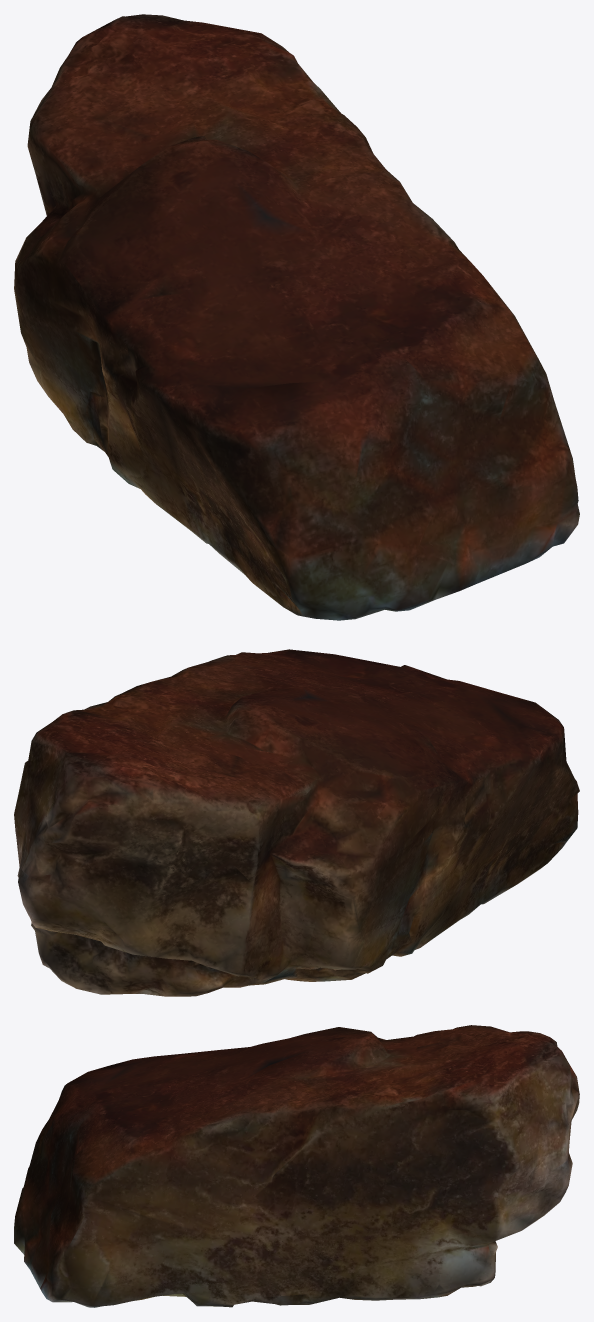
The model's file is rock_07.glb.
3 views of the same model, one above another, from view 1: azimuth 30°, elevation 25°; view 2: azimuth 150°, elevation 25°; view 3: azimuth 270°, elevation 25° (orthographic). The views are drawn at different scales.
Parts seen in each view (by area): view 1: rock_07; view 2: rock_07; view 3: rock_07.
Boxes of the visible parts, x1,y1,x2,y2 form: rock_07: [14, 14, 579, 620]; rock_07: [14, 649, 579, 996]; rock_07: [14, 1025, 579, 1307].
Bounding box in the file's own units: 0.1681 × 0.1437 × 0.3199.
Materials: 1 (1 with a texture image).
